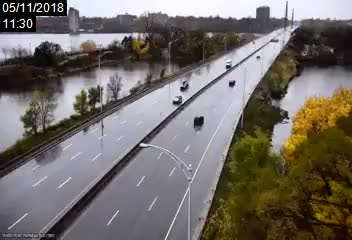personal_car: (193, 114, 204, 127), (172, 94, 183, 105), (179, 79, 189, 91), (225, 58, 232, 69), (228, 78, 236, 87)
